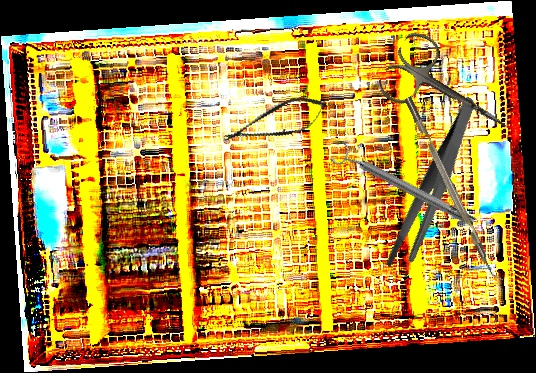Chopper: (404, 92, 507, 285)
Dressing Forceps: (351, 95, 517, 277)
Fixation Ring: (329, 139, 480, 235)
Iris Scissors: (373, 26, 526, 160)
Micro Scissor: (219, 89, 333, 155)
